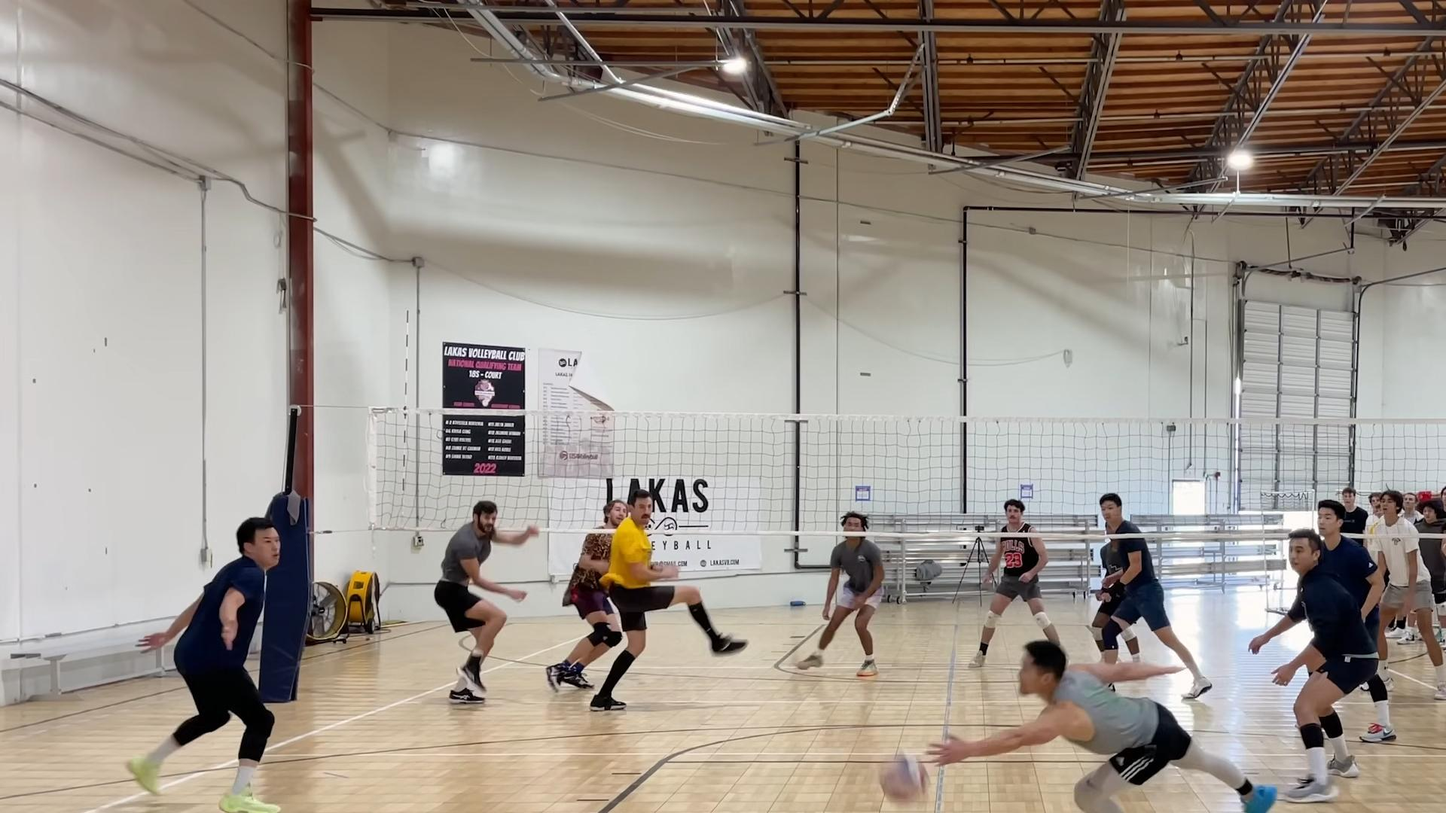difesa: (921, 638, 1281, 811)
